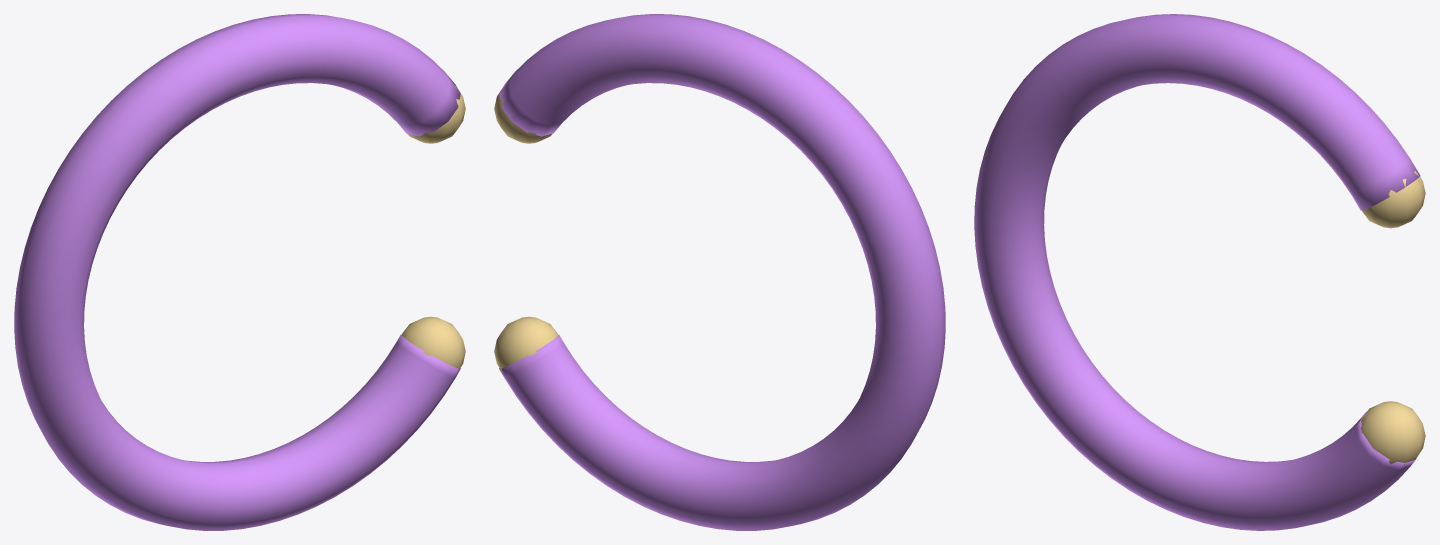
The model's file is small-arc-BT25O8ih.glb.
3 views of the same model, side by side, from view 1: azimuth 30°, elevation 25°; view 2: azimuth 150°, elevation 25°; view 3: azimuth 330°, elevation 25° (orthographic).
Parts seen in each view (by area): view 1: R3D_small-arc_Body_0, R3D_small-arc_Tip_1, R3D_small-arc_Tip_0; view 2: R3D_small-arc_Body_0, R3D_small-arc_Tip_1, R3D_small-arc_Tip_0; view 3: R3D_small-arc_Body_0, R3D_small-arc_Tip_1, R3D_small-arc_Tip_0.
Boxes of the visible parts, x1,y1,x2,y2 form: R3D_small-arc_Body_0: (14, 14, 460, 530); R3D_small-arc_Tip_1: (401, 316, 465, 372); R3D_small-arc_Tip_0: (408, 86, 465, 143); R3D_small-arc_Body_0: (499, 14, 945, 530); R3D_small-arc_Tip_1: (494, 316, 558, 372); R3D_small-arc_Tip_0: (494, 86, 551, 143); R3D_small-arc_Body_0: (974, 14, 1420, 530); R3D_small-arc_Tip_1: (1360, 401, 1425, 467); R3D_small-arc_Tip_0: (1361, 171, 1425, 228).
Size of the model in its own units: 1.32 by 1.42 by 0.18.
